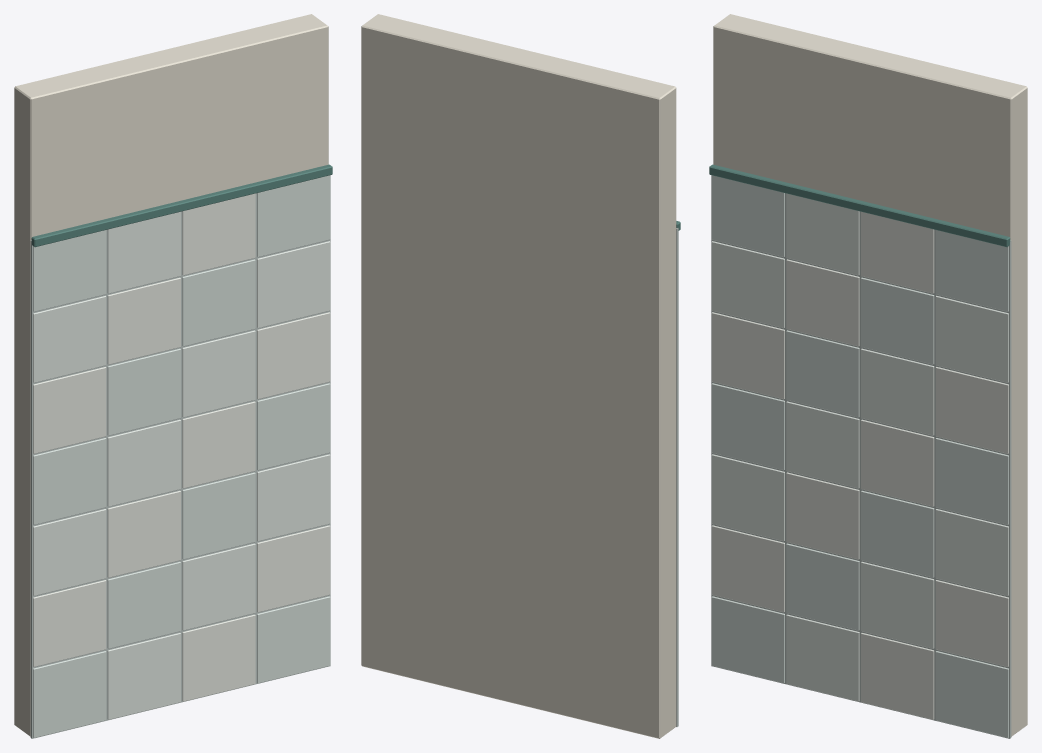
File: Structure-StallBackWall.fbx
The picture shows the model from 3 angles, left to right: view 1: azimuth 30°, elevation 25°; view 2: azimuth 150°, elevation 25°; view 3: azimuth 330°, elevation 25°; orthographic projection.
Parts seen in each view (by area): view 1: Wall Core, Tile Backer, Glazed Wall Tile.012, Glazed Wall Tile.022, Glazed Wall Tile.024, Glazed Wall Tile.005, Glazed Wall Tile.009, Glazed Wall Tile.011, Glazed Wall Tile.014, Glazed Wall Tile.015, Glazed Wall Tile.016, Glazed Wall Tile.018 (+19 smaller); view 2: Wall Core, Tile Backer; view 3: Wall Core, Tile Backer, Glazed Wall Tile.001, Glazed Wall Tile.003, Glazed Wall Tile.019, Glazed Wall Tile, Glazed Wall Tile.002, Glazed Wall Tile.007, Glazed Wall Tile.008, Glazed Wall Tile.009, Glazed Wall Tile.011, Glazed Wall Tile.016 (+19 smaller).
Part boxes in pixels (x1,y1,x2,y2): Wall Core: [14, 14, 328, 736]; Tile Backer: [30, 175, 330, 738]; Glazed Wall Tile.012: [107, 277, 180, 364]; Glazed Wall Tile.022: [257, 525, 330, 612]; Glazed Wall Tile.024: [257, 383, 330, 470]; Glazed Wall Tile.005: [33, 295, 106, 382]; Glazed Wall Tile.009: [107, 490, 180, 577]; Glazed Wall Tile.011: [107, 348, 180, 435]; Glazed Wall Tile.014: [182, 614, 255, 701]; Glazed Wall Tile.015: [182, 543, 255, 630]; Glazed Wall Tile.016: [182, 472, 255, 559]; Glazed Wall Tile.018: [182, 330, 255, 417]; Wall Core: [361, 14, 676, 738]; Tile Backer: [676, 228, 678, 726]; Wall Core: [713, 14, 1027, 736]; Tile Backer: [711, 175, 1011, 738]; Glazed Wall Tile.001: [711, 525, 784, 612]; Glazed Wall Tile.003: [711, 383, 784, 470]; Glazed Wall Tile.019: [861, 277, 934, 364]; Glazed Wall Tile: [711, 596, 784, 683]; Glazed Wall Tile.002: [711, 454, 784, 541]; Glazed Wall Tile.007: [786, 614, 859, 701]; Glazed Wall Tile.008: [786, 543, 859, 630]; Glazed Wall Tile.009: [786, 472, 859, 559]; Glazed Wall Tile.011: [786, 330, 859, 417]; Glazed Wall Tile.016: [861, 490, 934, 577].
Size of the model in its own units: 1.1 by 2.25 by 0.134.
